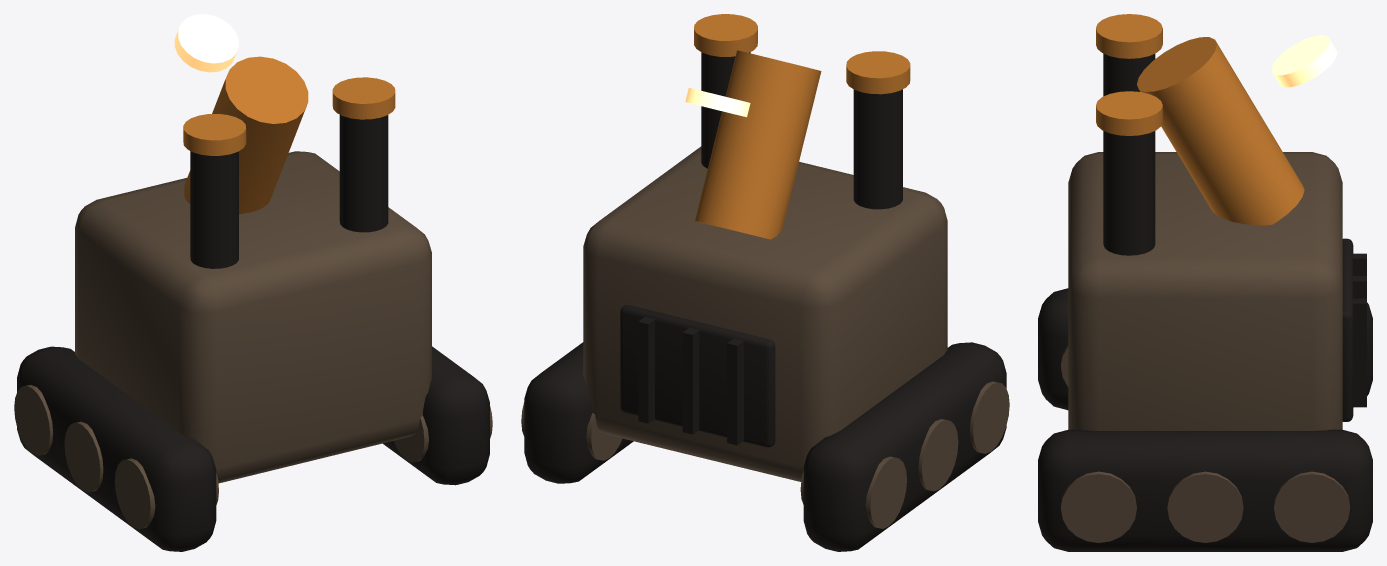
The model's file is enemy_smelter.glb.
3 renders of one model, left to right at view 1: azimuth 30°, elevation 25°; view 2: azimuth 150°, elevation 25°; view 3: azimuth 270°, elevation 25°, orthographic. The views are drawn at different scales.
Parts seen in each view (by area): view 1: Torso, TreadL, Cannon, TreadR, Chimney1, Chimney0, Muzzle, ChimneyCap1, ChimneyCap0, WheelL0, WheelL1, WheelL2 (+1 smaller); view 2: Torso, TreadL, Cannon, Grate, TreadR, Chimney0, ChimneyCap0, ChimneyCap1, WheelL2, WheelL0, WheelL1, Chimney1 (+5 smaller); view 3: Torso, TreadR, Cannon, Chimney1, WheelR0, WheelR1, WheelR2, TreadL, ChimneyCap0, ChimneyCap1, Muzzle, Grate (+2 smaller).
Boxes of the visible parts, bbox=[...] form: Torso: bbox=[75, 151, 431, 483]; TreadL: bbox=[17, 346, 216, 551]; Cannon: bbox=[184, 56, 308, 214]; TreadR: bbox=[383, 346, 489, 485]; Chimney1: bbox=[339, 115, 388, 232]; Chimney0: bbox=[190, 151, 238, 268]; Muzzle: bbox=[174, 14, 238, 72]; ChimneyCap1: bbox=[332, 77, 395, 119]; ChimneyCap0: bbox=[183, 114, 246, 155]; WheelL0: bbox=[114, 458, 218, 529]; WheelL1: bbox=[64, 421, 103, 492]; WheelL2: bbox=[14, 385, 53, 455]; Torso: bbox=[583, 146, 947, 481]; TreadL: bbox=[803, 342, 1006, 551]; Cannon: bbox=[695, 50, 821, 239]; Grate: bbox=[620, 305, 775, 447]; TreadR: bbox=[524, 342, 633, 483]; Chimney0: bbox=[853, 89, 902, 209]; ChimneyCap0: bbox=[846, 51, 910, 94]; ChimneyCap1: bbox=[694, 14, 757, 56]; WheelL2: bbox=[800, 456, 906, 528]; WheelL0: bbox=[970, 381, 1009, 453]; WheelL1: bbox=[918, 419, 958, 491]; Chimney1: bbox=[701, 52, 750, 168]; Torso: bbox=[1068, 152, 1342, 430]; TreadR: bbox=[1038, 429, 1372, 551]; Cannon: bbox=[1137, 37, 1304, 225]; Chimney1: bbox=[1103, 131, 1155, 255]; WheelR0: bbox=[1061, 471, 1136, 542]; WheelR1: bbox=[1167, 471, 1243, 542]; WheelR2: bbox=[1274, 471, 1349, 542]; TreadL: bbox=[1038, 288, 1372, 410]; ChimneyCap0: bbox=[1096, 14, 1162, 58]; ChimneyCap1: bbox=[1096, 91, 1162, 135]; Muzzle: bbox=[1271, 35, 1337, 87]; Grate: bbox=[1342, 238, 1353, 421].
Size of the model in its own units: 2.75 by 3.15 by 2.2.
